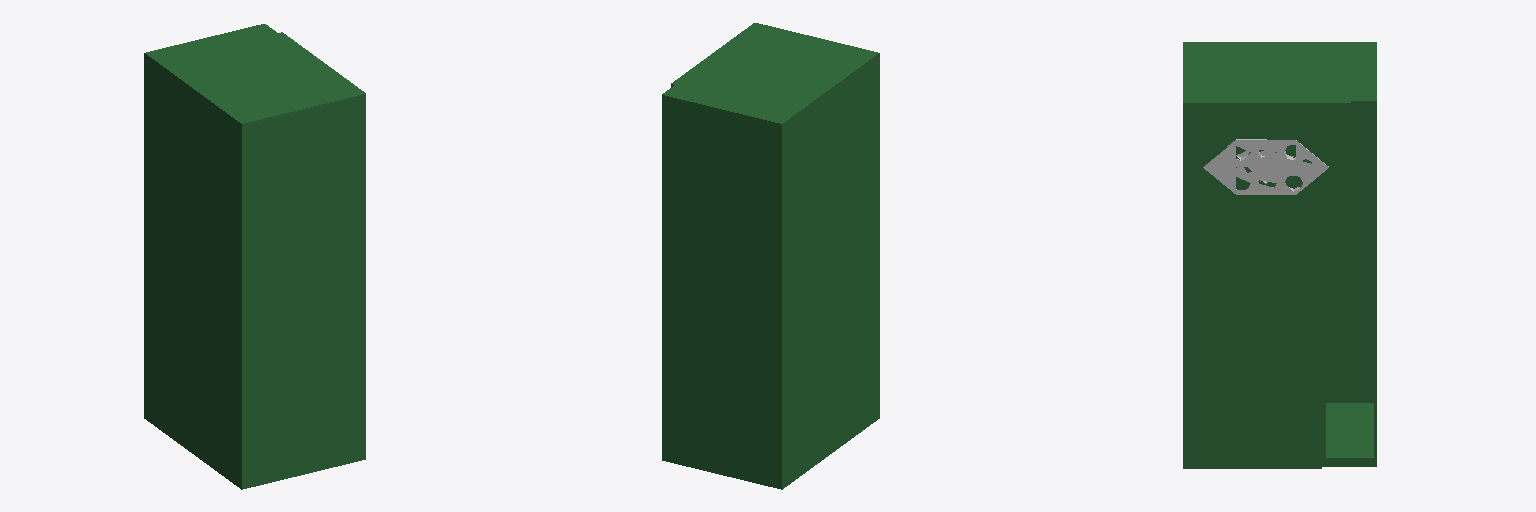
The model's file is Шкафчик.obj.
The picture shows the model from 3 angles: view 1: azimuth 30°, elevation 25°; view 2: azimuth 150°, elevation 25°; view 3: azimuth 270°, elevation 25°; orthographic projection.
Visible parts, largest first — view 1: Cube, Cube.001; view 2: Cube; view 3: Cube.001, Cube.
Boxes of the visible parts, <box> form: Cube: <box>144,24,361,489</box>; Cube.001: <box>279,32,365,459</box>; Cube: <box>662,24,879,489</box>; Cube.001: <box>1183,101,1350,468</box>; Cube: <box>1183,42,1376,466</box>.
Size of the model in its own units: 2.09 by 5.8 by 2.8.